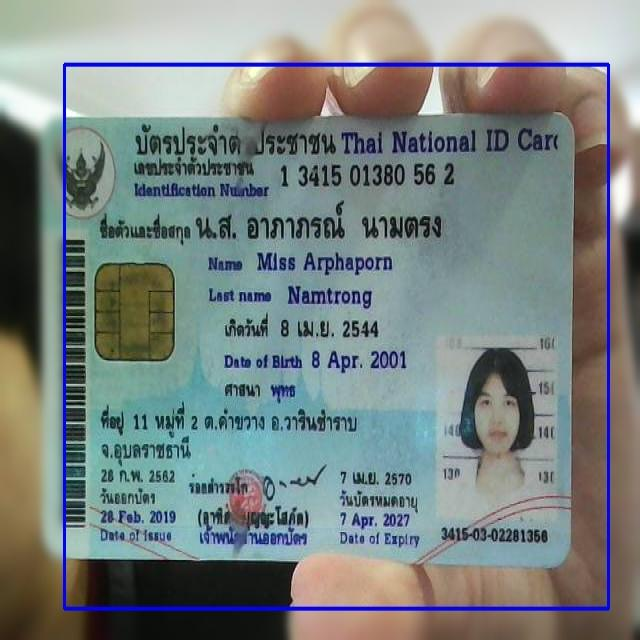Address_th: (93, 397, 360, 471)
Date_of_Birth: (311, 341, 413, 379)
Date_of_Expiry: (336, 509, 415, 530)
Date_of_Issue: (95, 504, 179, 528)
First_Name: (252, 244, 398, 280)
ID_Number: (277, 158, 457, 194)
Image: (439, 332, 557, 518)
Last_Name: (285, 280, 376, 316)
Thai_Name: (193, 199, 450, 248)
